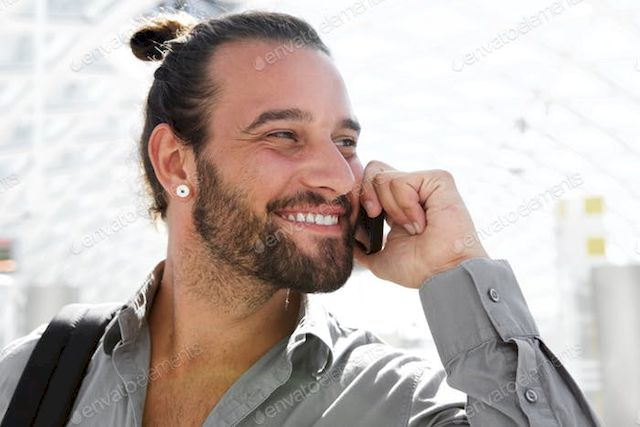phone: (346, 141, 417, 289)
